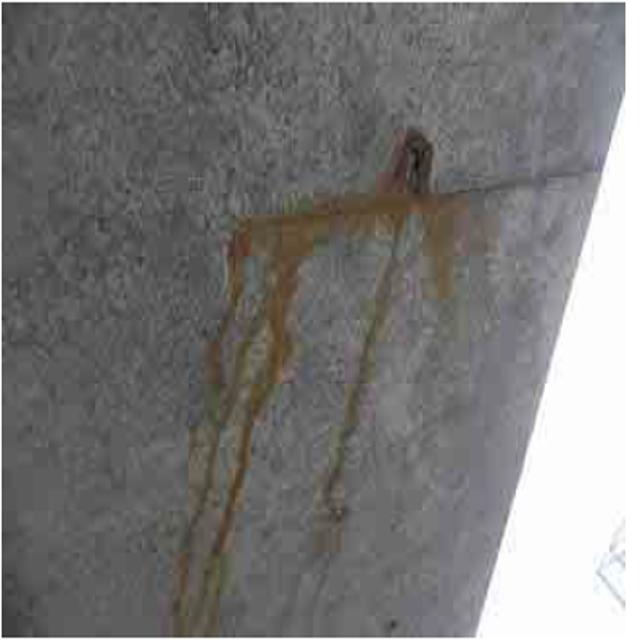leakage: (219, 158, 474, 573)
